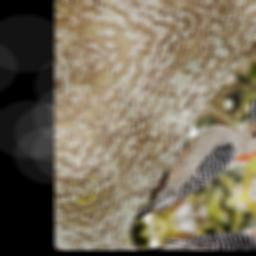Woodpecker: (107, 93, 256, 235)
